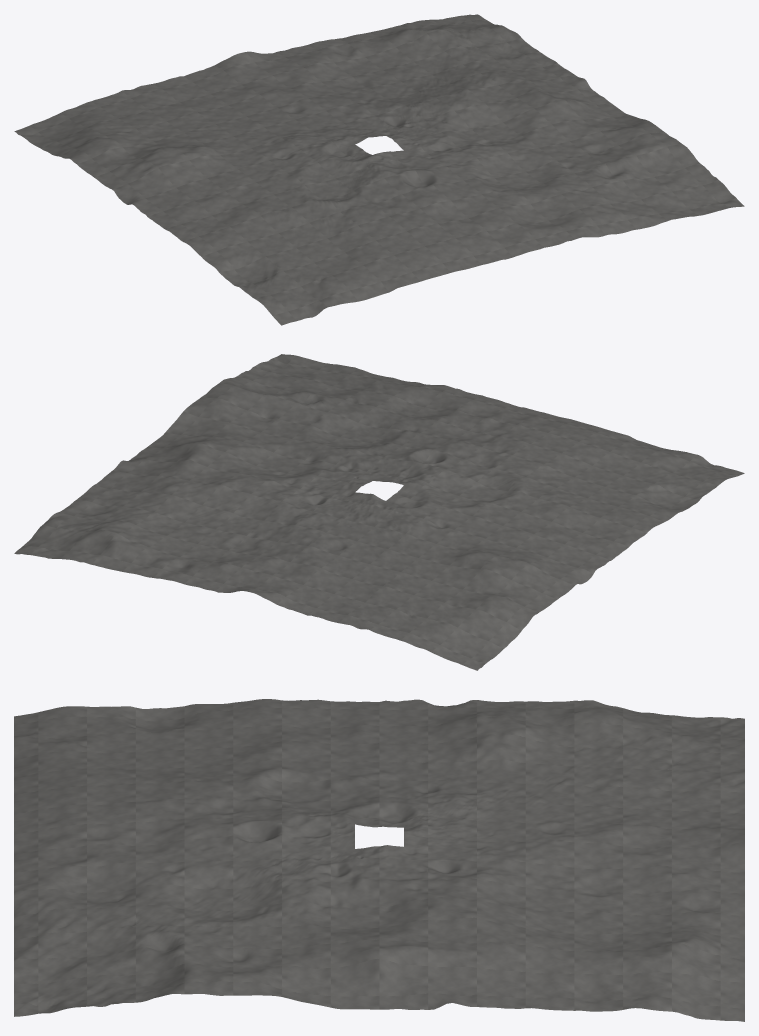
File: de-gerlache-rim_far.glb
3 renders of one model, top to bottom at view 1: azimuth 30°, elevation 25°; view 2: azimuth 150°, elevation 25°; view 3: azimuth 270°, elevation 25°, orthographic. The views are drawn at different scales.
Visible parts, largest first — view 1: FarTerrain; view 2: FarTerrain; view 3: FarTerrain.
Boxes of the visible parts, x1,y1,x2,y2 form: FarTerrain: (14,14,744,325); FarTerrain: (14,354,744,670); FarTerrain: (14,699,744,1021).
Size of the model in its own units: 300 by 18.53 by 300.
1 material, 1 textured.
